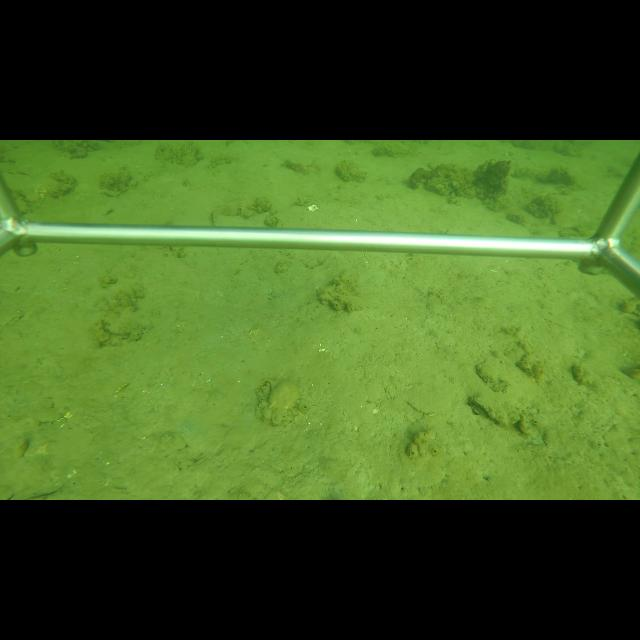Oyster-Open: (465, 395, 511, 428)
